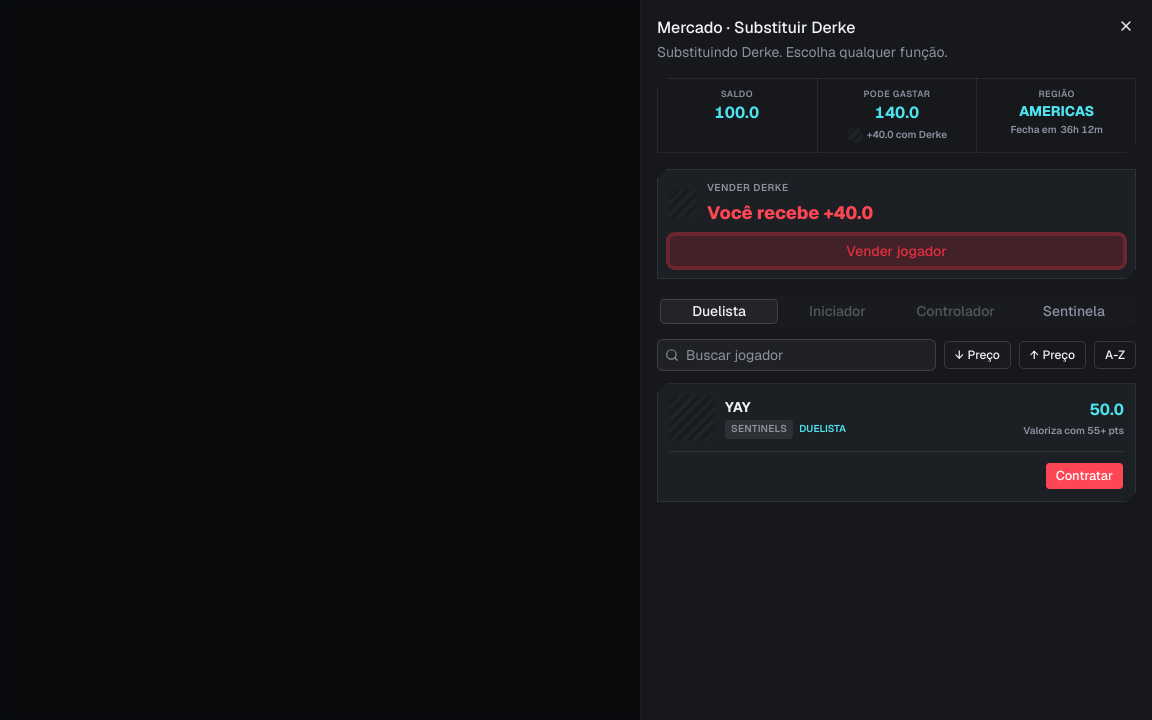
MarketSheet — busca por nome › o contador só aparece com busca ativa e reflete as quatro funções
This screenshot has width=1152, height=720.
Check: the tab "Duelista" is shown, box [660, 299, 778, 324]
Type "chronicle" into the search field named "buscar jogador pelo nome" at (796, 355), box [657, 339, 936, 371]
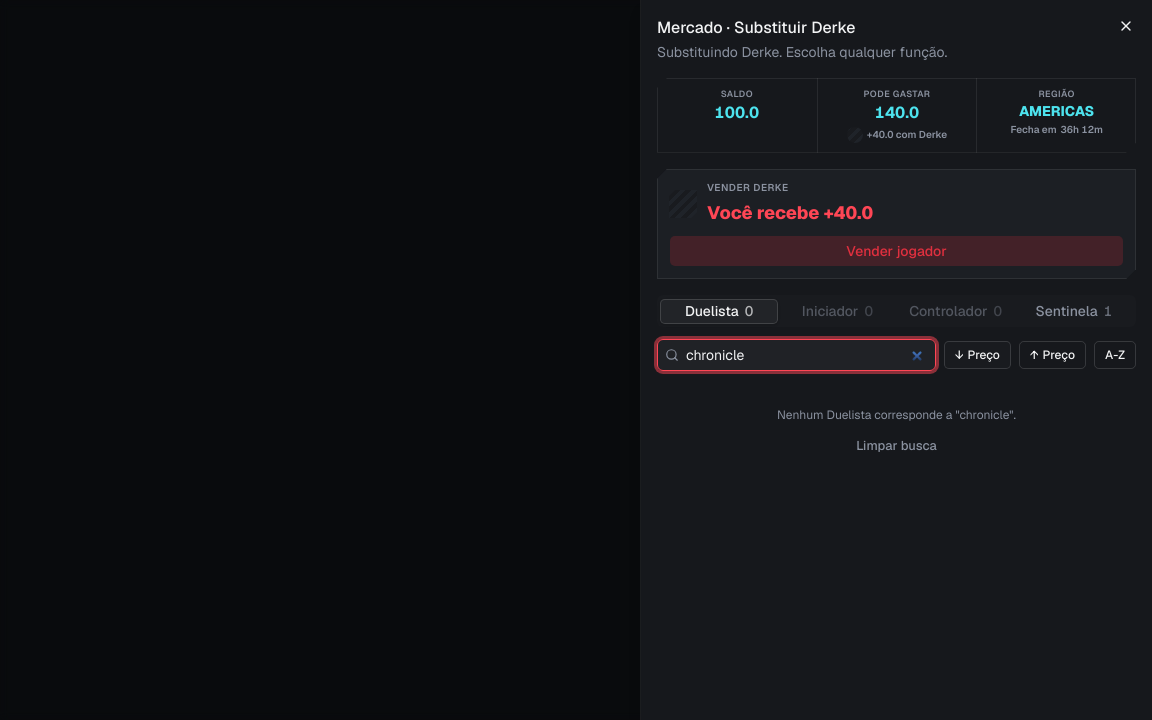
Check: the tab "Duelista 0" is enabled, box [660, 299, 778, 324]
Check: the tab "Duelista 0" is shown, box [660, 299, 778, 324]
Check: the tab "Sentinela 1" is shown, box [1015, 299, 1133, 324]
